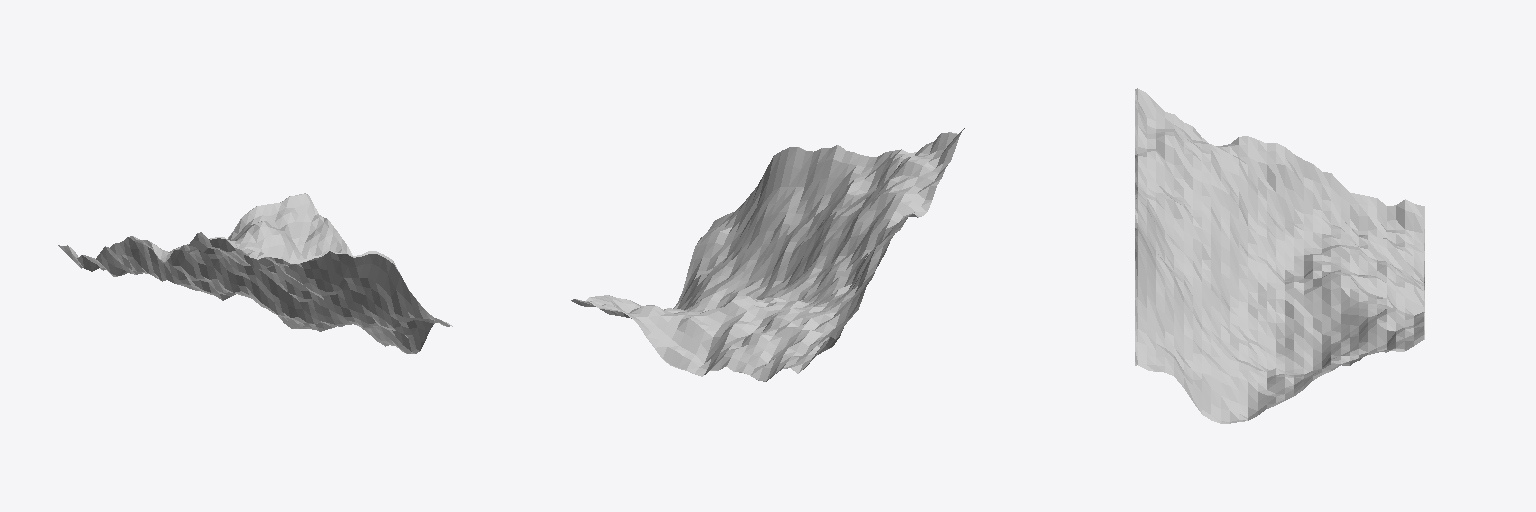
File: terrain_1_-1.obj
The picture shows the model from 3 angles: view 1: azimuth 30°, elevation 25°; view 2: azimuth 150°, elevation 25°; view 3: azimuth 270°, elevation 25°; orthographic projection.
Parts seen in each view (by area): view 1: terrain_1_-1_Plane.048; view 2: terrain_1_-1_Plane.048; view 3: terrain_1_-1_Plane.048.
Part boxes in pixels (left/top/right/bottom): terrain_1_-1_Plane.048: left=58, top=193, right=452, bottom=353; terrain_1_-1_Plane.048: left=571, top=128, right=964, bottom=381; terrain_1_-1_Plane.048: left=1135, top=88, right=1424, bottom=423.
Size of the model in its own units: 32 by 26.04 by 32.